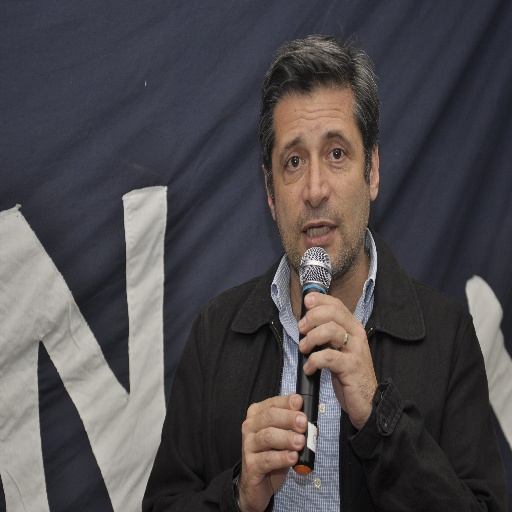hand: (295, 307, 393, 414), (239, 391, 308, 511)
